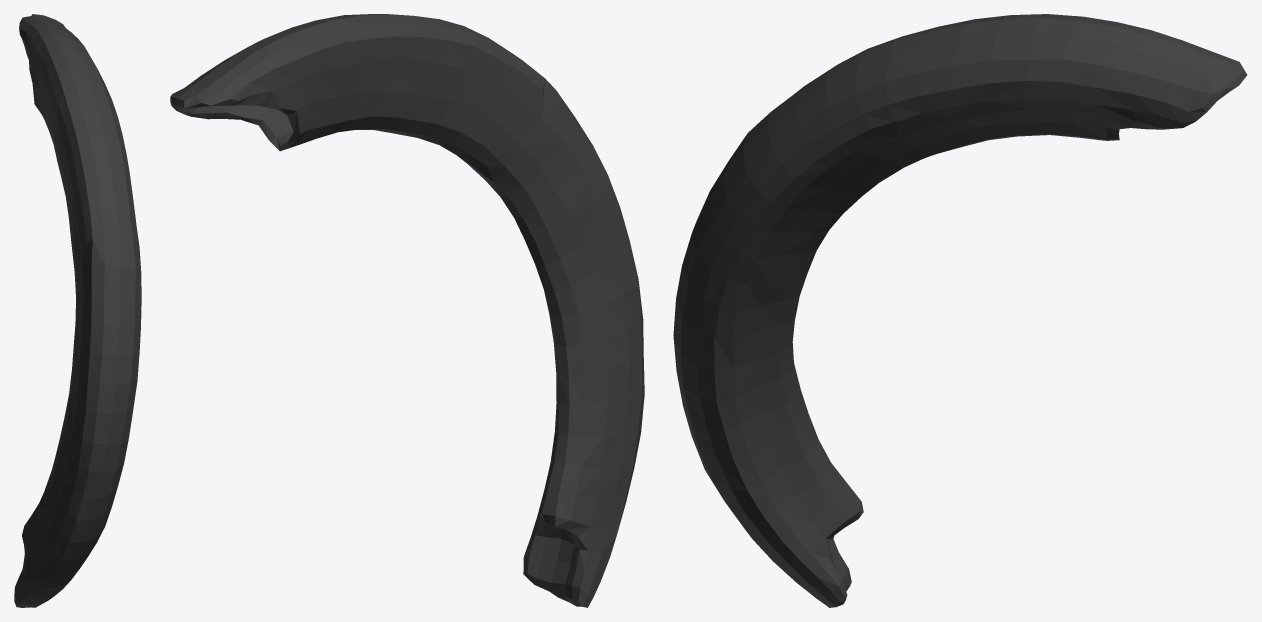
The model's file is Incisor_top_1.glb.
3 renders of one model, left to right at view 1: azimuth 30°, elevation 25°; view 2: azimuth 150°, elevation 25°; view 3: azimuth 270°, elevation 25°, orthographic. The views are drawn at different scales.
Parts seen in each view (by area): view 1: Incisor_top_1; view 2: Incisor_top_1; view 3: Incisor_top_1.
Boxes of the visible parts, x1=… form: Incisor_top_1: x1=14, y1=14, x2=141, y2=607; Incisor_top_1: x1=170, y1=14, x2=644, y2=607; Incisor_top_1: x1=673, y1=14, x2=1247, y2=607.
Size of the model in its own units: 0.5388 by 1.31 by 1.03.
Materials: 1 (1 with a texture image).
